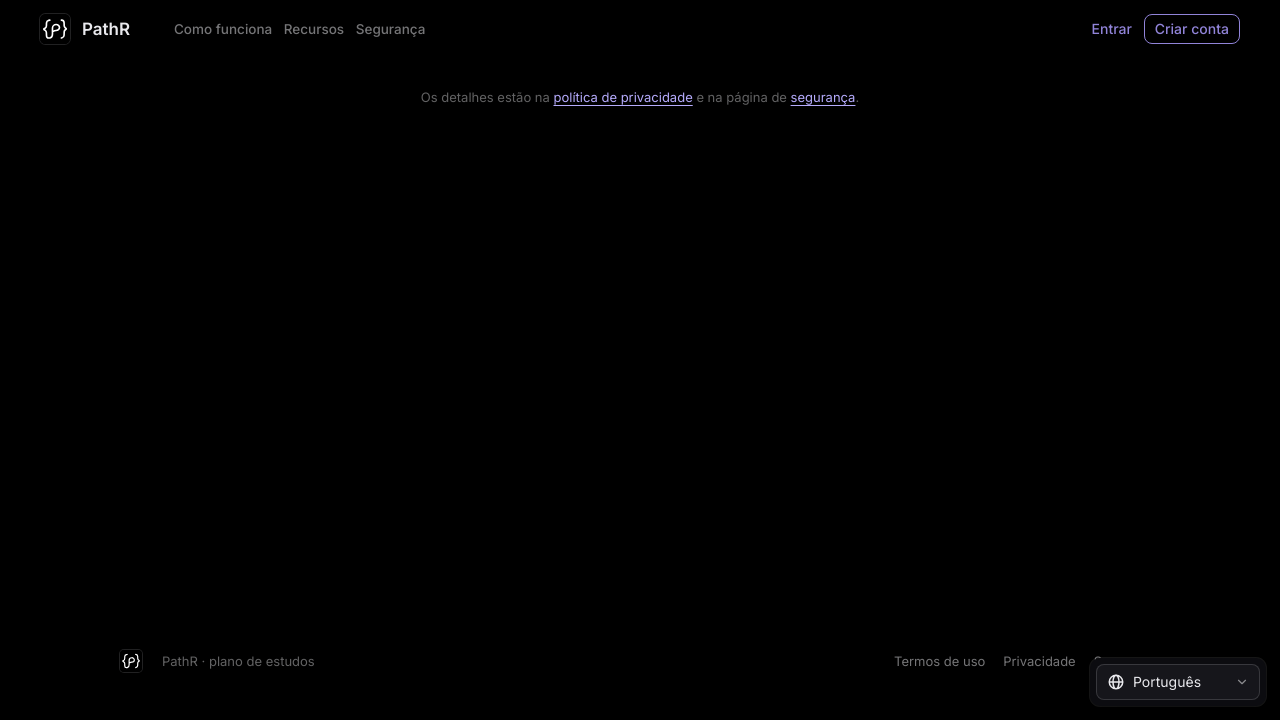
Test: clicar em Privacidade no rodapé abre a política
(page scrolled)
Click the link "Privacidade": click(1040, 661) [1003, 651, 1076, 671]
(page scrolled)
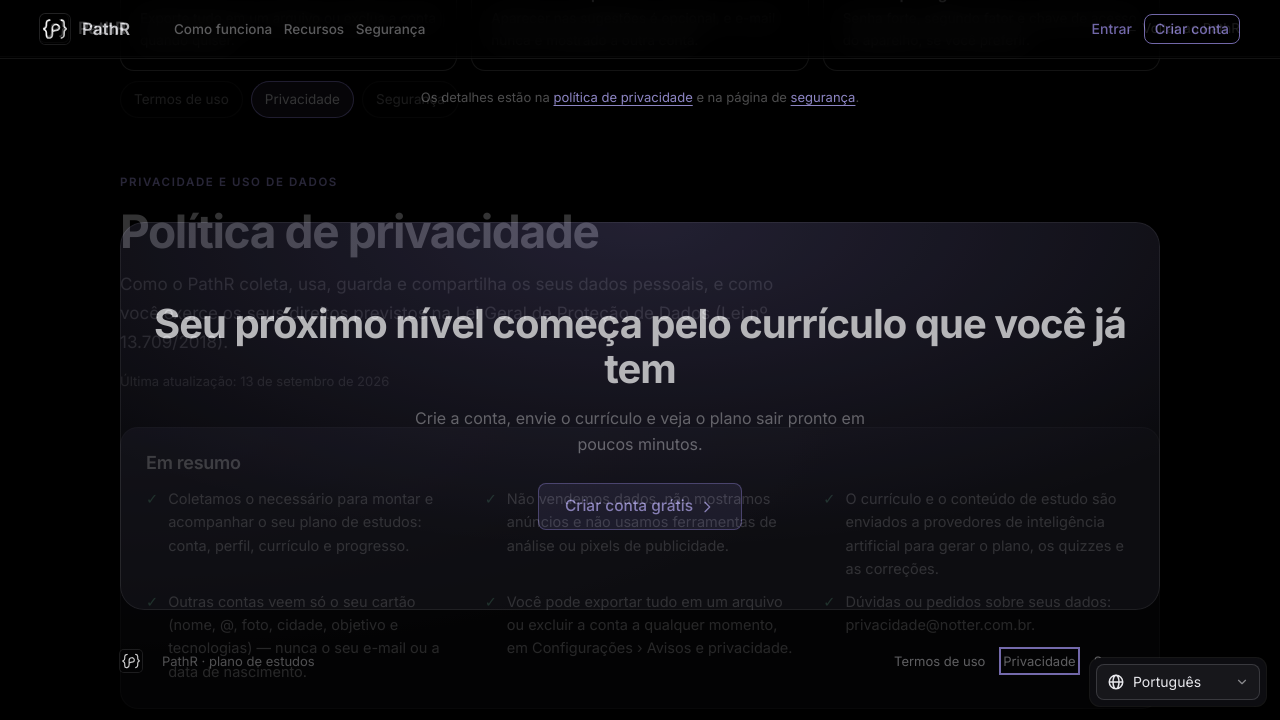
Expected: the heading "Política de privacidade" is shown, [120, 203, 598, 259]
